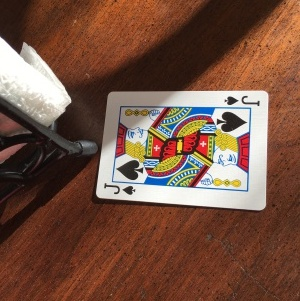card: (93, 89, 271, 212)
